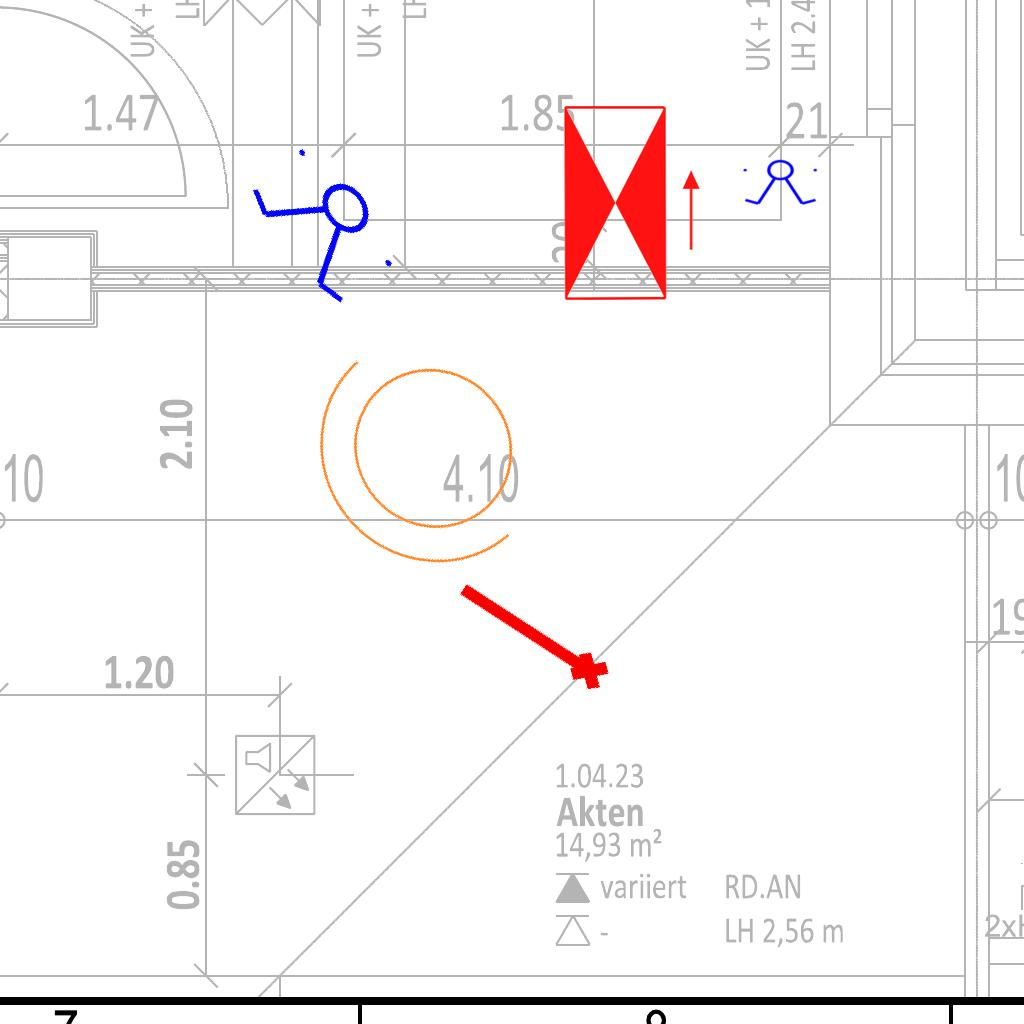ASR_Ansaugoeffnung: (444, 568, 618, 704)
Fluchtwegpiktogramm: (558, 99, 705, 307)
Scheinwerfer_fuer_Alarmbeleuchtung: (258, 286, 602, 633)
Serienschalter: (236, 129, 416, 321), (739, 159, 823, 207)
